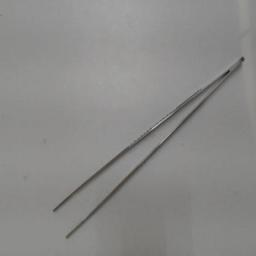DeBakey Dissector: (46, 46, 250, 248)
